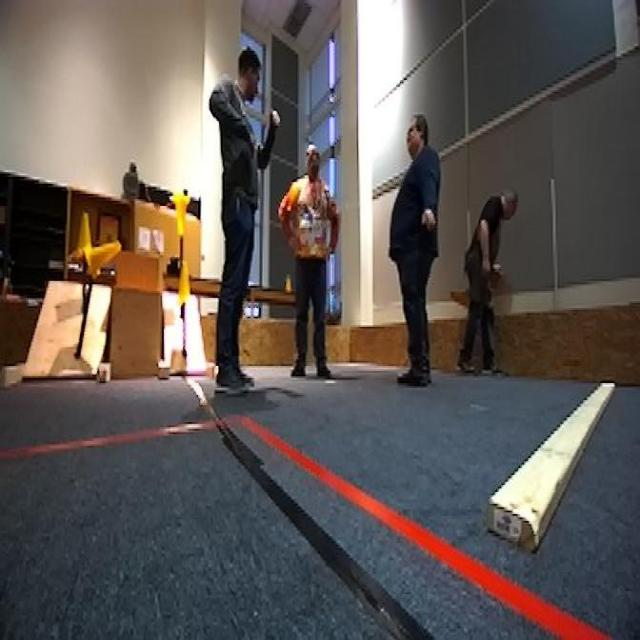frc_cone: (79, 235, 121, 279), (170, 192, 192, 237), (74, 211, 95, 257), (176, 260, 192, 306)
